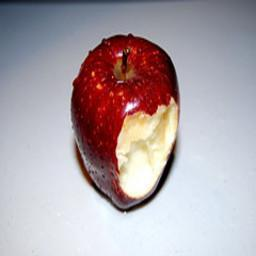apple: (70, 35, 181, 211)
